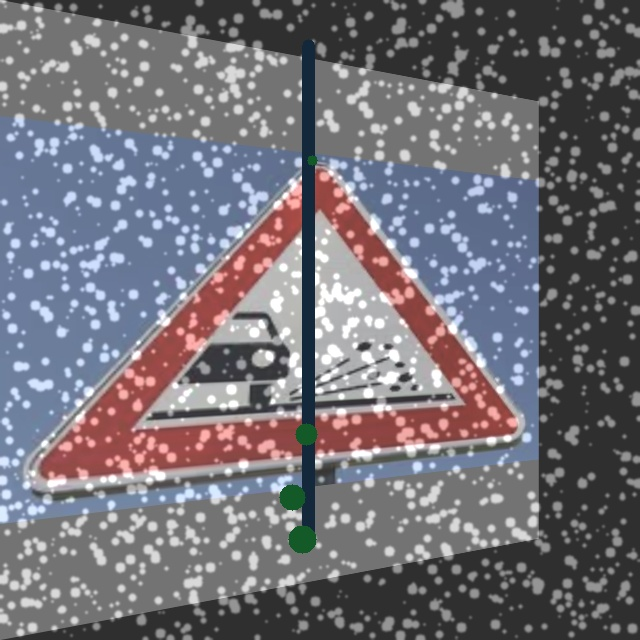Loose_Gravel: (80, 157, 505, 487)
